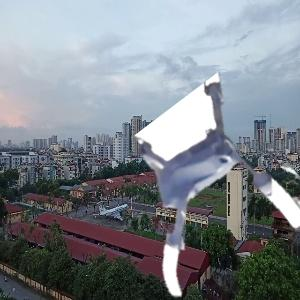drone: (111, 108, 297, 294)
